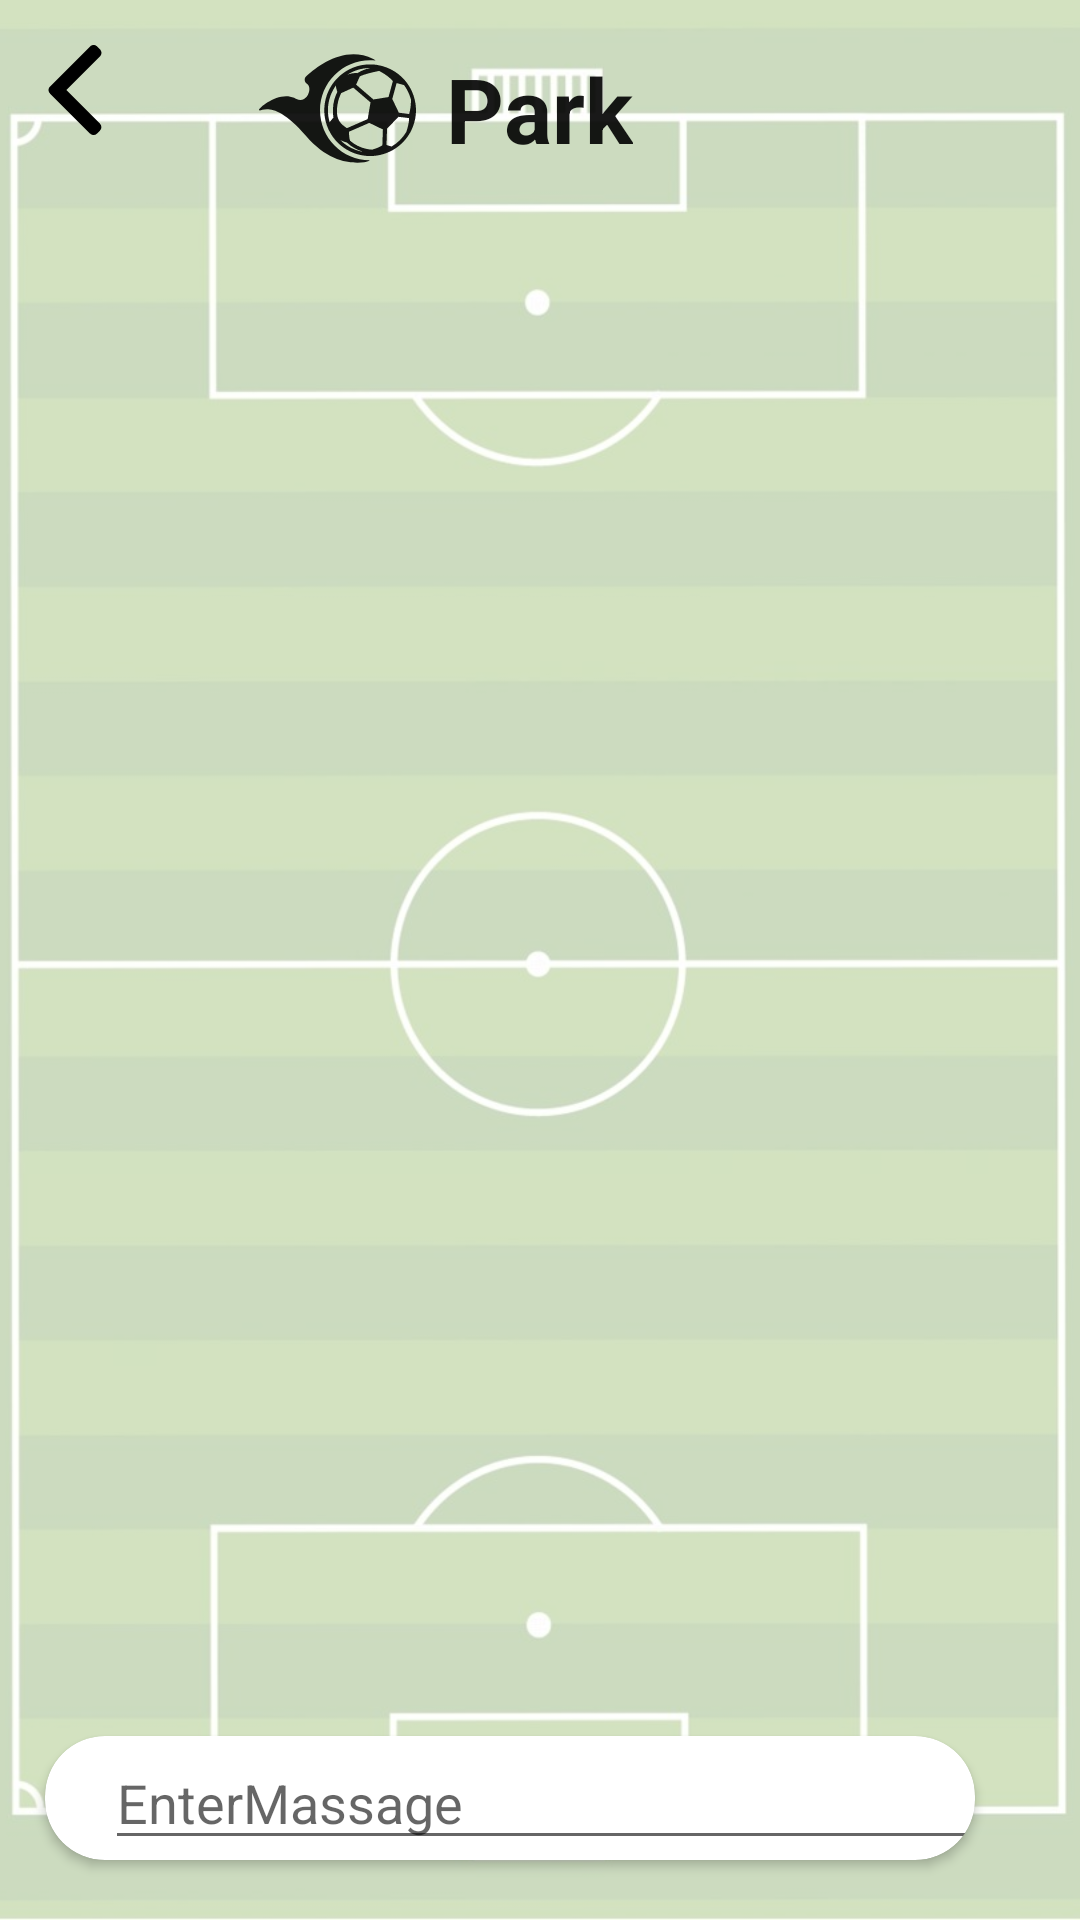

Where icons sit on this 1080px x 1920px app screen, as Rect(x1, y1, x2, y2):
back arrow: Rect(30, 45, 120, 135)
soccer: Rect(259, 54, 416, 187)
